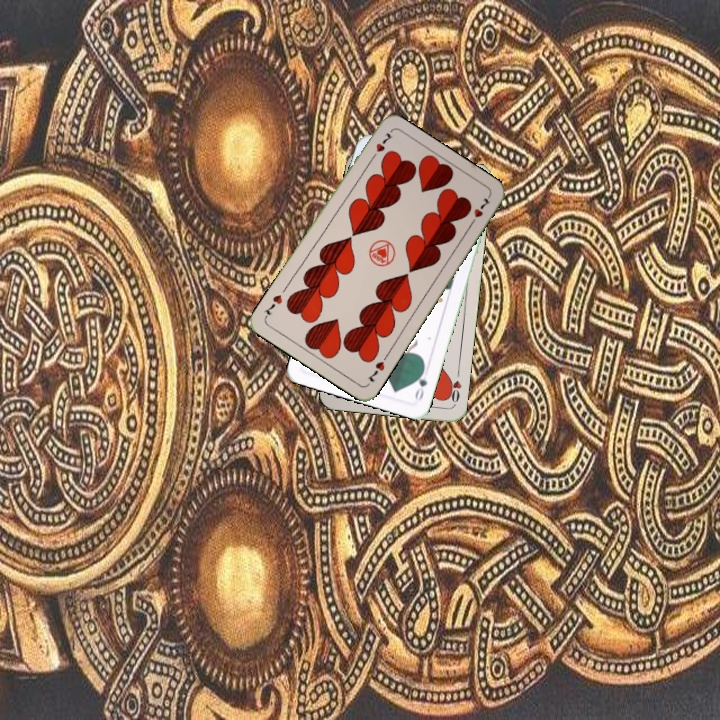GO: (411, 363, 430, 403)
H7: (366, 128, 395, 164), (363, 351, 391, 385)
HO: (444, 366, 464, 407)
